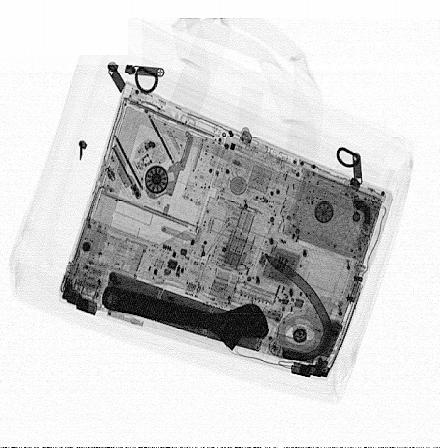Wrench: (101, 284, 270, 351)
